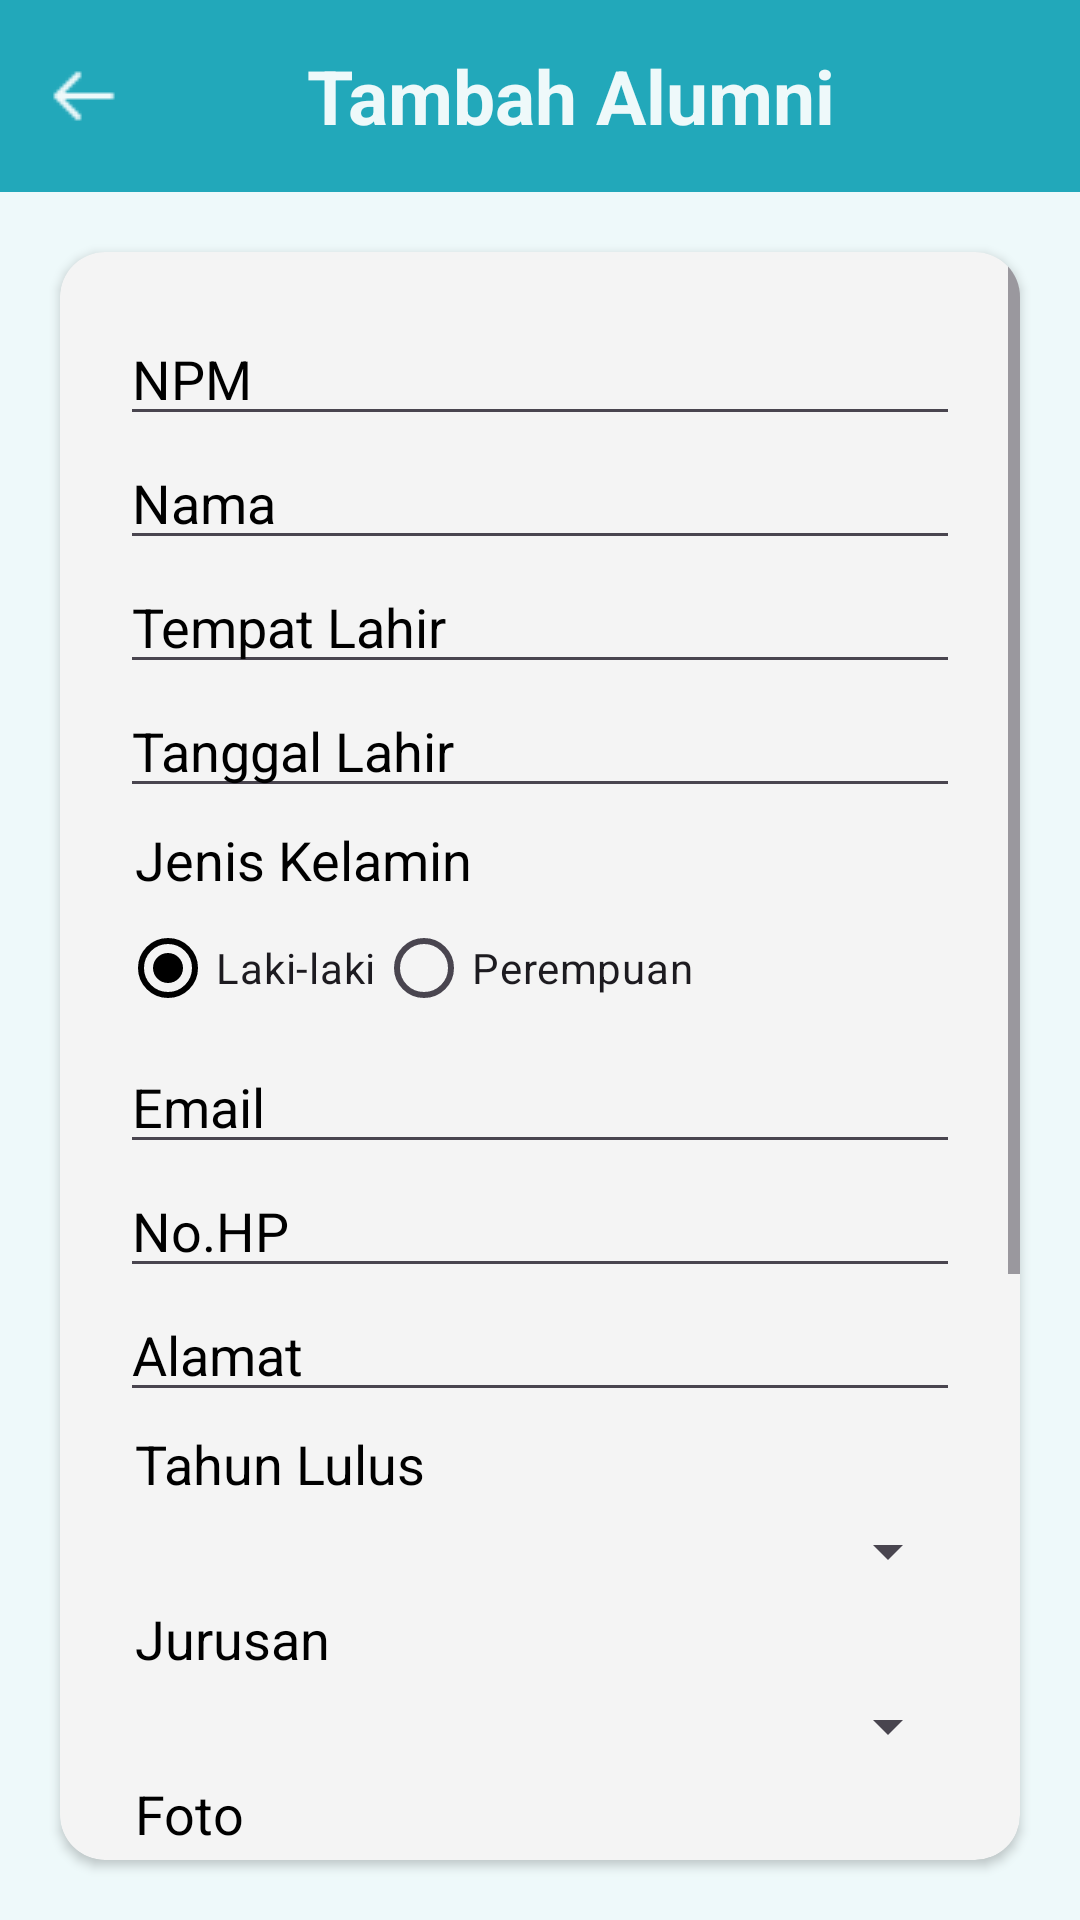

Icons on this 1080px×1920px Android screen, each with the point to tap as [x,y]:
back: [84,96]
